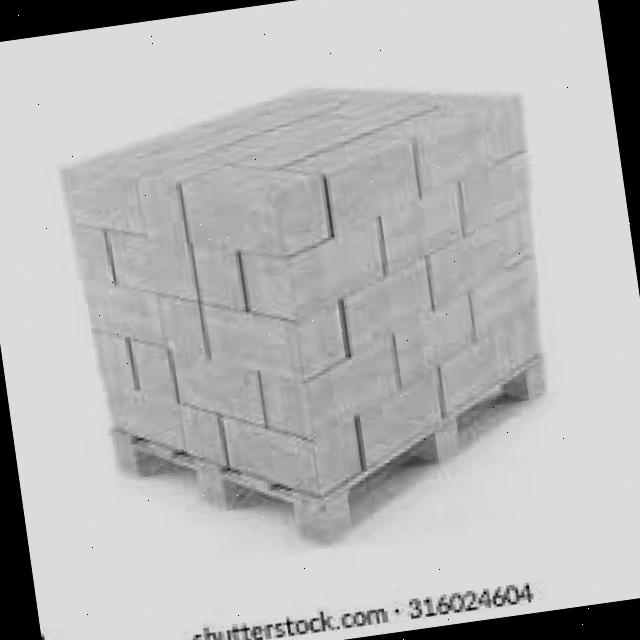bricks: (63, 90, 534, 483)
